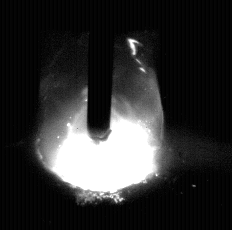arame: (88, 0, 112, 144)
poca: (35, 0, 163, 230)
